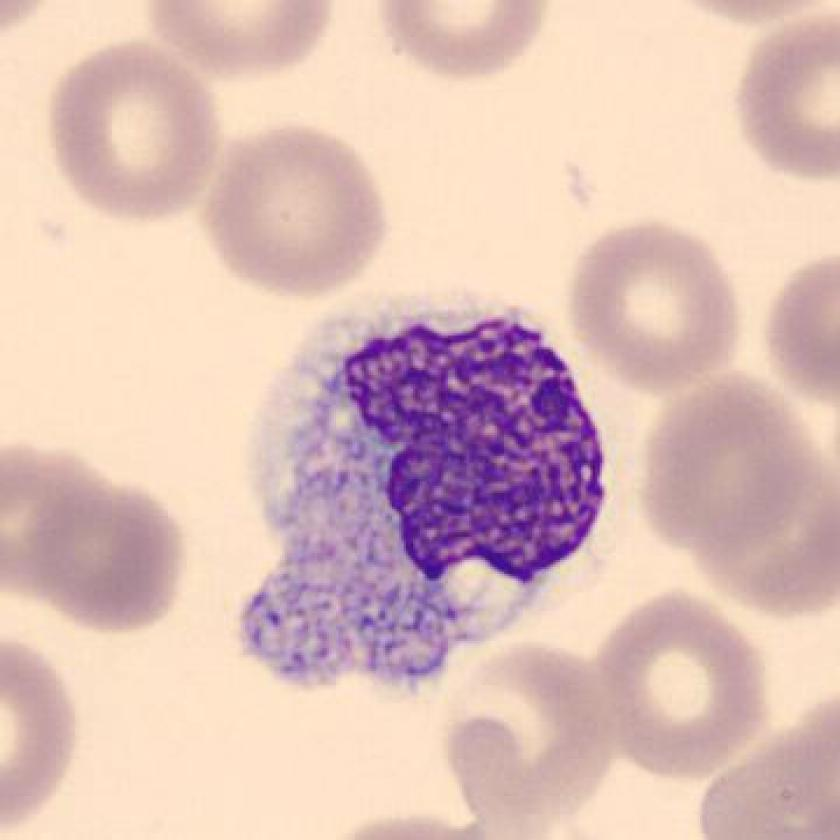monocyte: (211, 276, 631, 716)
